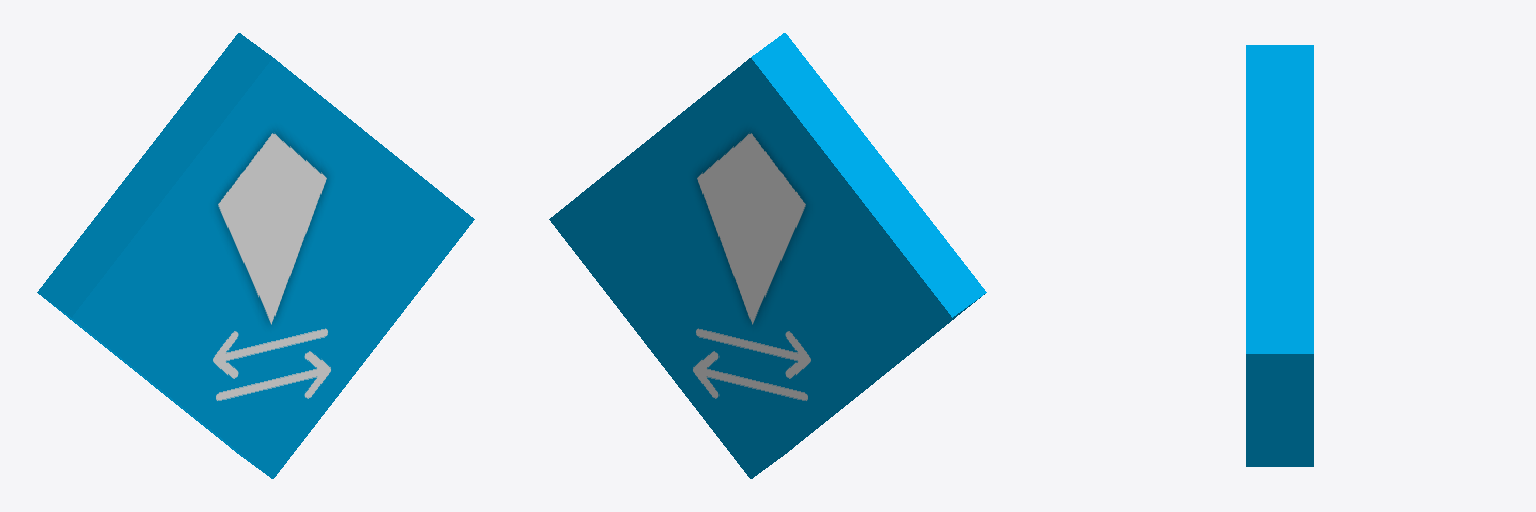
3 renders of one model, left to right at view 1: azimuth 30°, elevation 25°; view 2: azimuth 150°, elevation 25°; view 3: azimuth 270°, elevation 25°, orthographic.
Visible parts, largest first — view 1: pCube1; view 2: pCube1; view 3: pCube1.
Boxes of the visible parts, <box> form: pCube1: <box>37,33,474,478</box>; pCube1: <box>549,33,986,478</box>; pCube1: <box>1246,45,1313,466</box>.
Size of the model in its own units: 14.14 by 14.14 by 2.09.
1 materials, 1 textured.